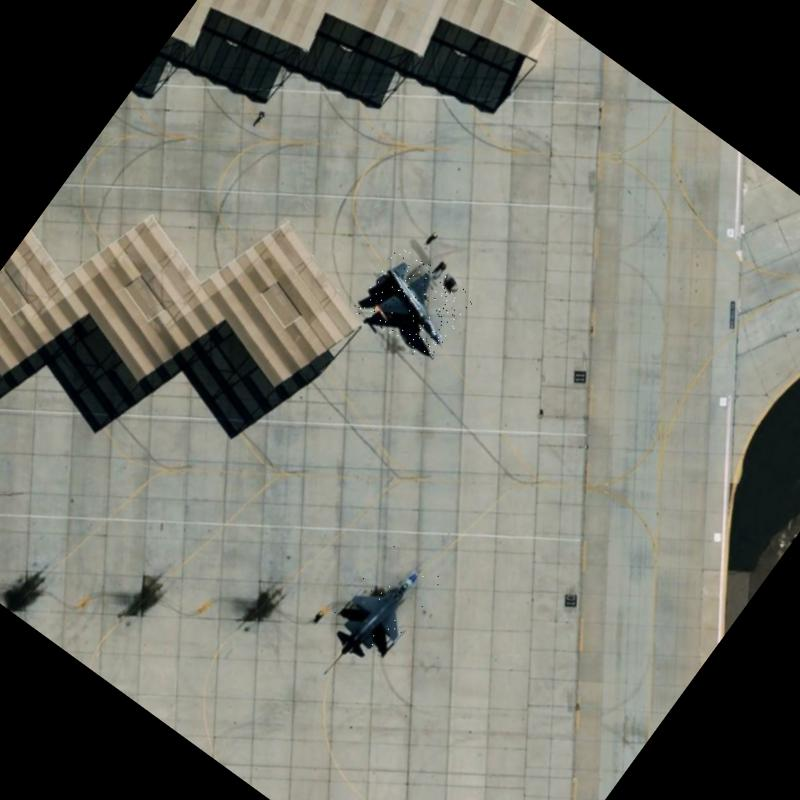A5: (350, 242, 476, 366), (322, 536, 443, 664)
